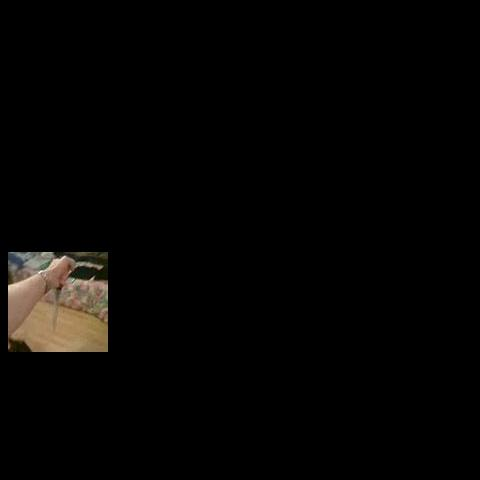knife: (50, 284, 63, 332)
